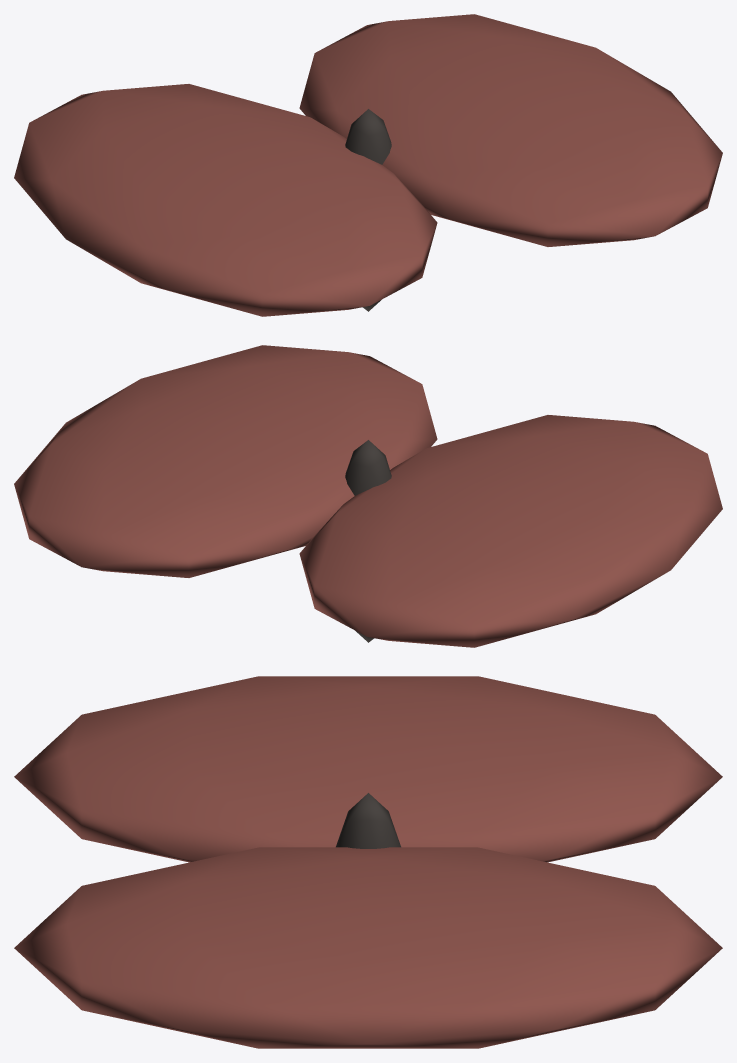
Rendered from butterfly.glb.
3 views of the same model, one above another, from view 1: azimuth 30°, elevation 25°; view 2: azimuth 150°, elevation 25°; view 3: azimuth 270°, elevation 25° (orthographic). The views are drawn at different scales.
Parts seen in each view (by area): view 1: butterfly; view 2: butterfly; view 3: butterfly.
Part boxes in pixels (<box>): butterfly: <box>14,14,722,316</box>; butterfly: <box>14,345,722,647</box>; butterfly: <box>14,676,722,1048</box>.
Size of the model in its own units: 1.27 by 0.408 by 1.05.
